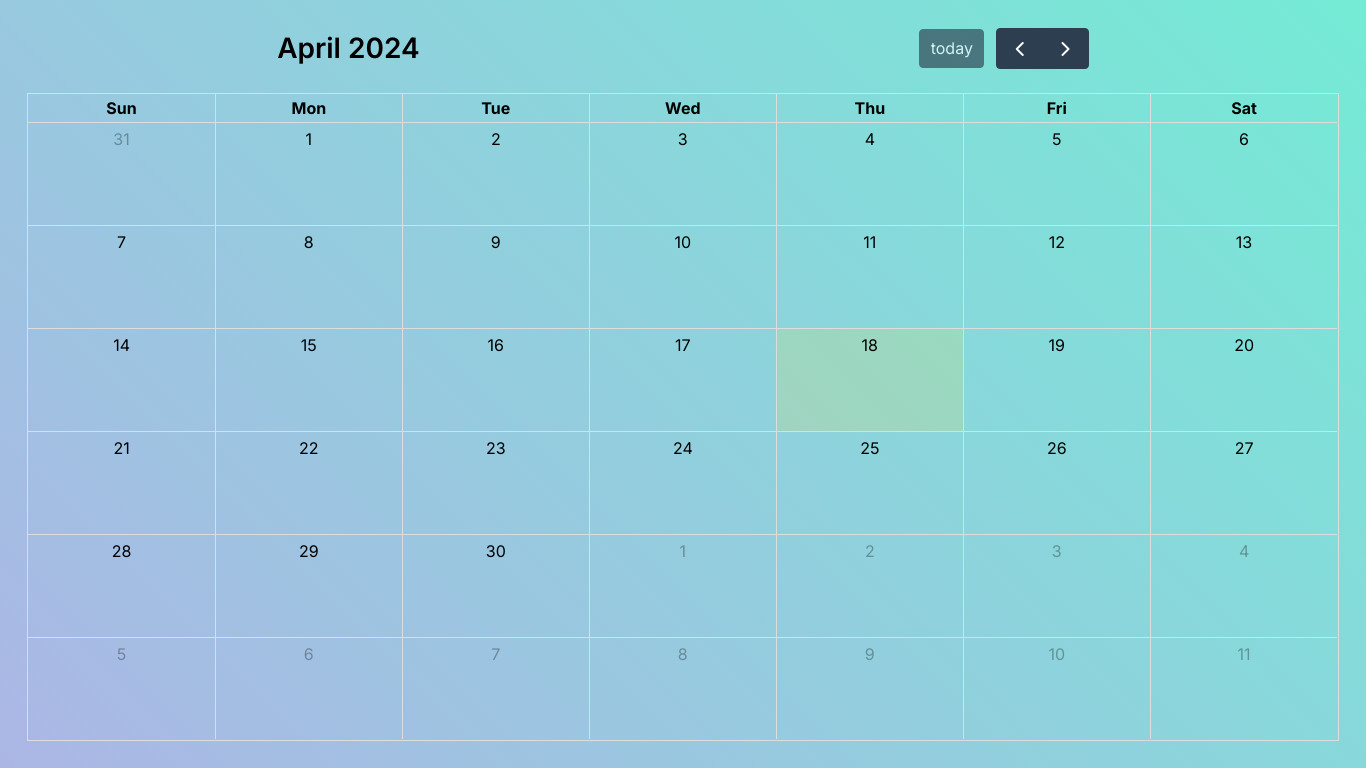
Test: CalendarPage Component › opens modal when adding a workout
// Click on a date to add a workout
Click the cell with class "fc-daygrid-day" showing "31". click: click(122, 174)
box: [28,123,215,225]
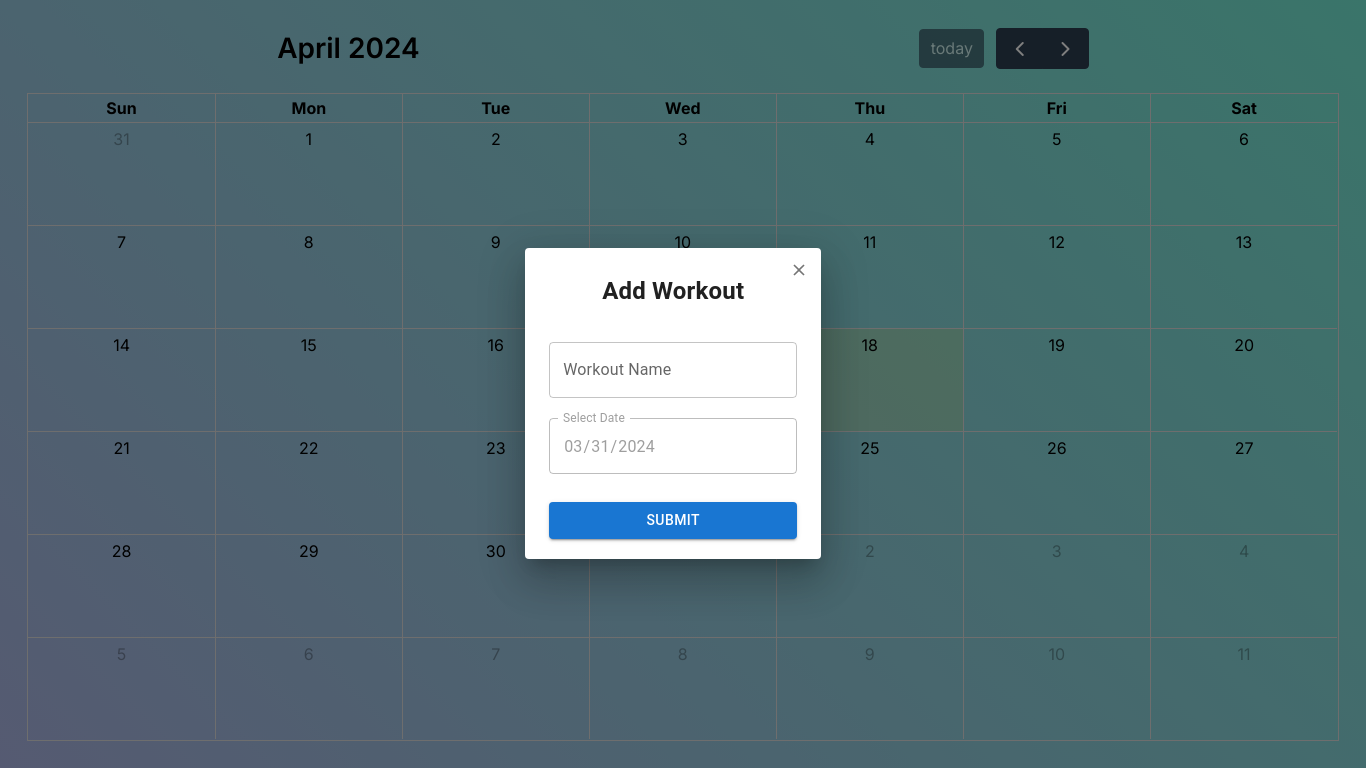
expect the element showing "Add Workout Workout Name Select Date Submit" is shown: met, box [525,248,821,559]
expect the heading "Add Workout" is shown: met, box [602,277,744,305]
expect the element with test id "workout-name-textfield" is shown: met, box [549,342,797,398]
